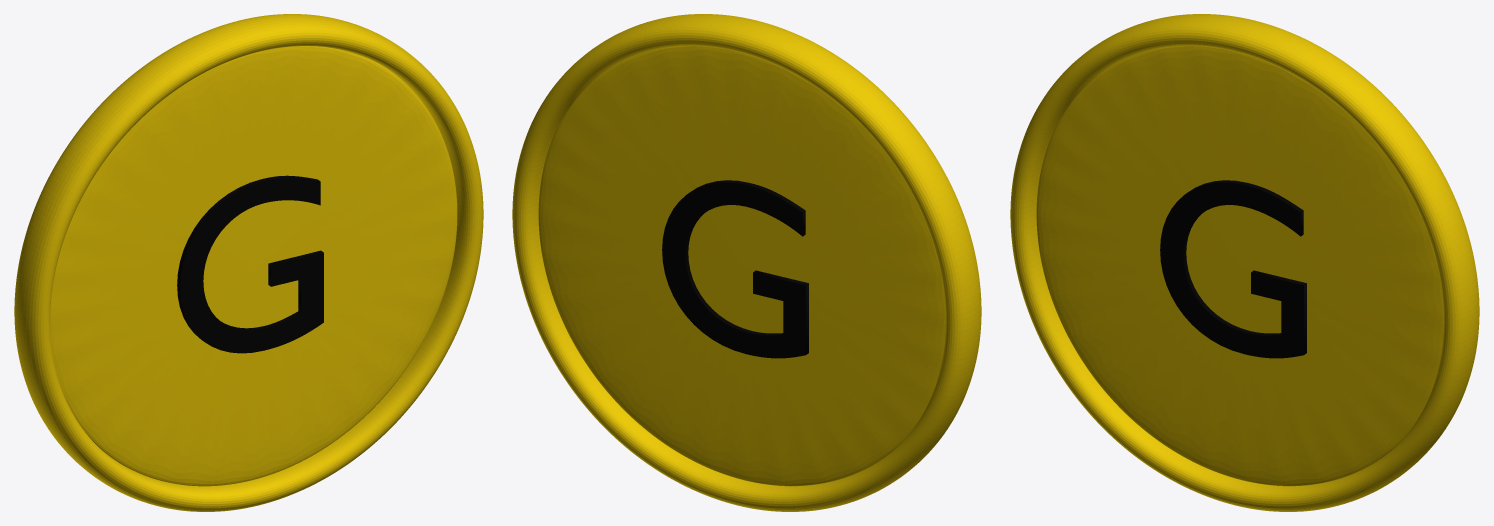
Rendered from gold.fbx.
3 views of the same model, side by side, from view 1: azimuth 30°, elevation 25°; view 2: azimuth 150°, elevation 25°; view 3: azimuth 330°, elevation 25° (orthographic).
Visible parts, largest first — view 1: Cylinder, Text.001; view 2: Cylinder, Text; view 3: Cylinder, Text.001.
Boxes of the visible parts, left/top/right/bottom form: Cylinder: left=14, top=14, right=483, bottom=511; Text.001: left=177, top=175, right=323, bottom=353; Cylinder: left=512, top=14, right=981, bottom=511; Text: left=662, top=180, right=808, bottom=358; Cylinder: left=1010, top=14, right=1479, bottom=511; Text.001: left=1160, top=180, right=1306, bottom=358.
Bounding box in the file's own units: 198 × 198 × 18.83.
